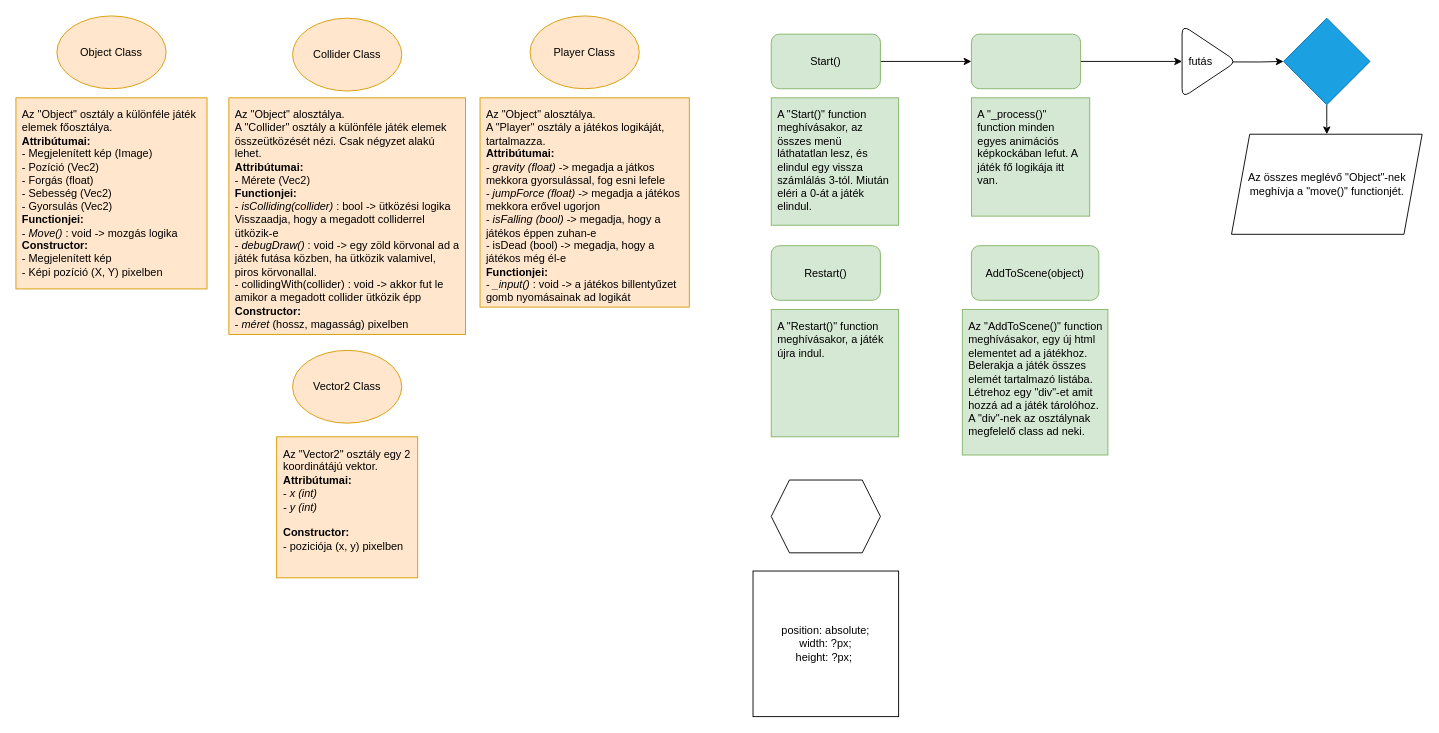
The diagram is 1439 pixels wide and 733 high, and some of its shapes have lost their labels. Here are the shapes that lost their labels. From the top down, the box of each, then its label:
(971, 33, 1081, 89): _process()
(1283, 17, 1370, 105): Ameddig a játékos életben van
(770, 479, 880, 553): Játék elemek DIV-jeinek stílusai
